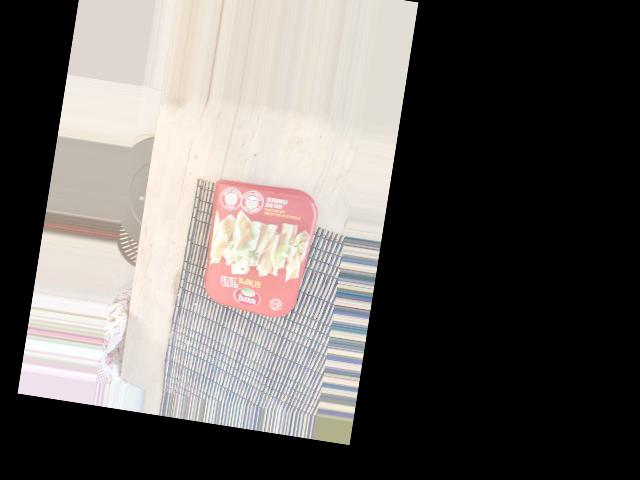cheese: (186, 278, 332, 384)
